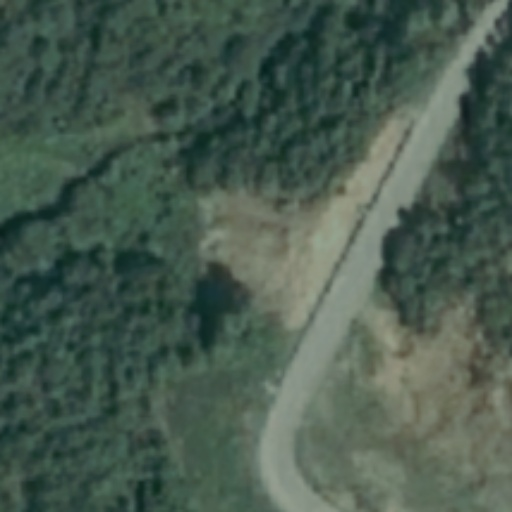landslide: (199, 188, 343, 320)
